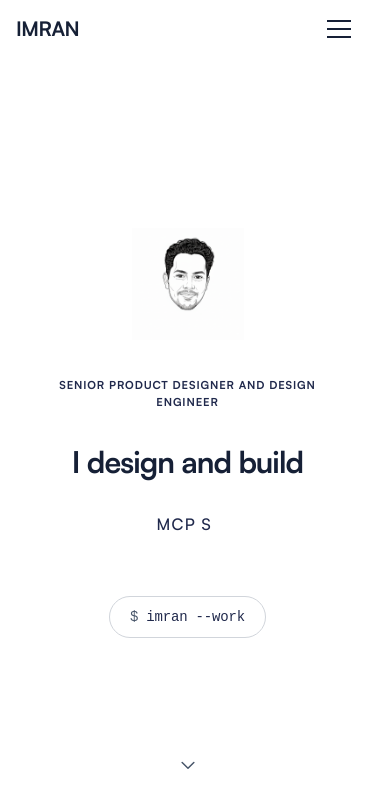
Test: Home Page › should open mobile menu on click
// Click the menu button
Click the button named "Open menu": x=339, y=29 319,12 -> 359,46
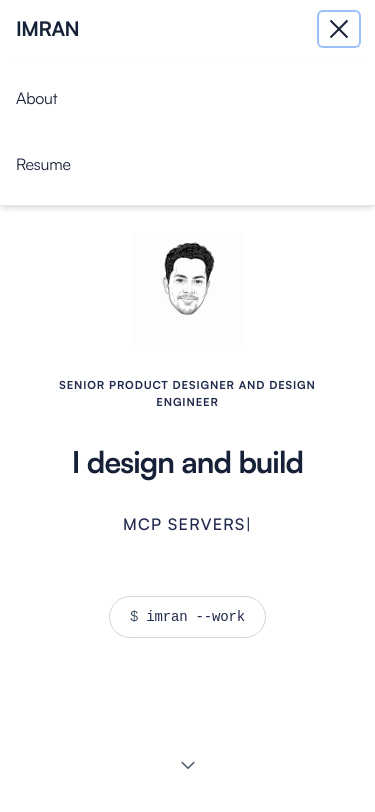
Now the element showing "About Resume" is shown, box 0,58 -> 374,206
